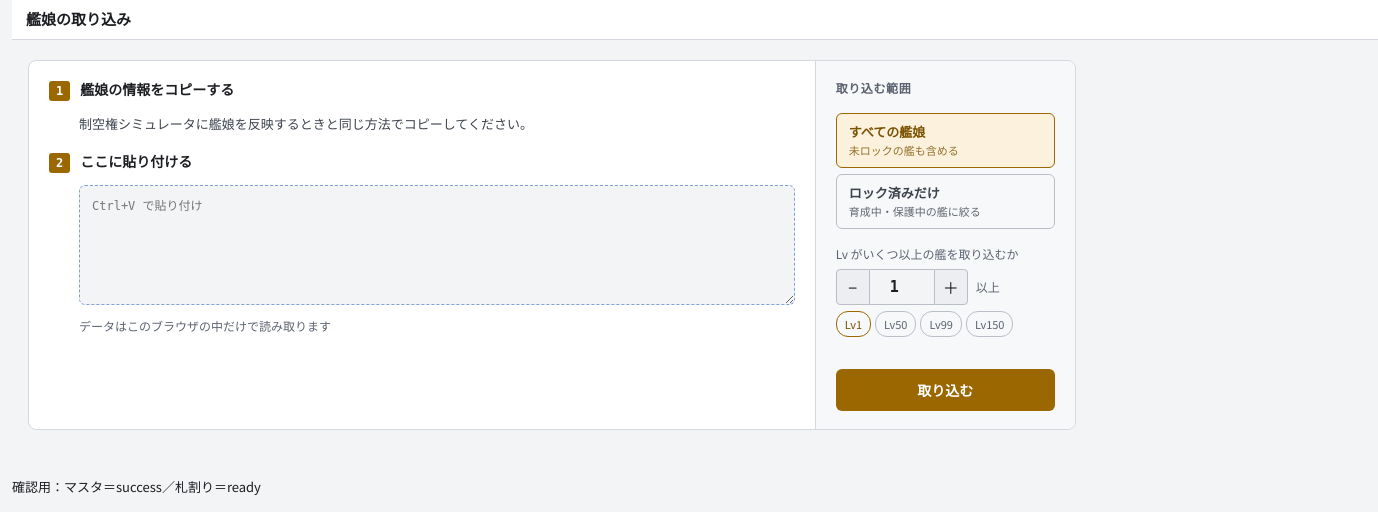
it: 取り込み画面（ImportScreen） › 表示（要件 3.4・モック） › 「ロック済みだけ」を押すと、そちらを選んだ状態に切り替わる
Step 1. Click the radio button labelled "ロック済みだけ 育成中・保護中の艦に絞る" → [945, 201], box x1=836 y1=174 x2=1055 y2=228
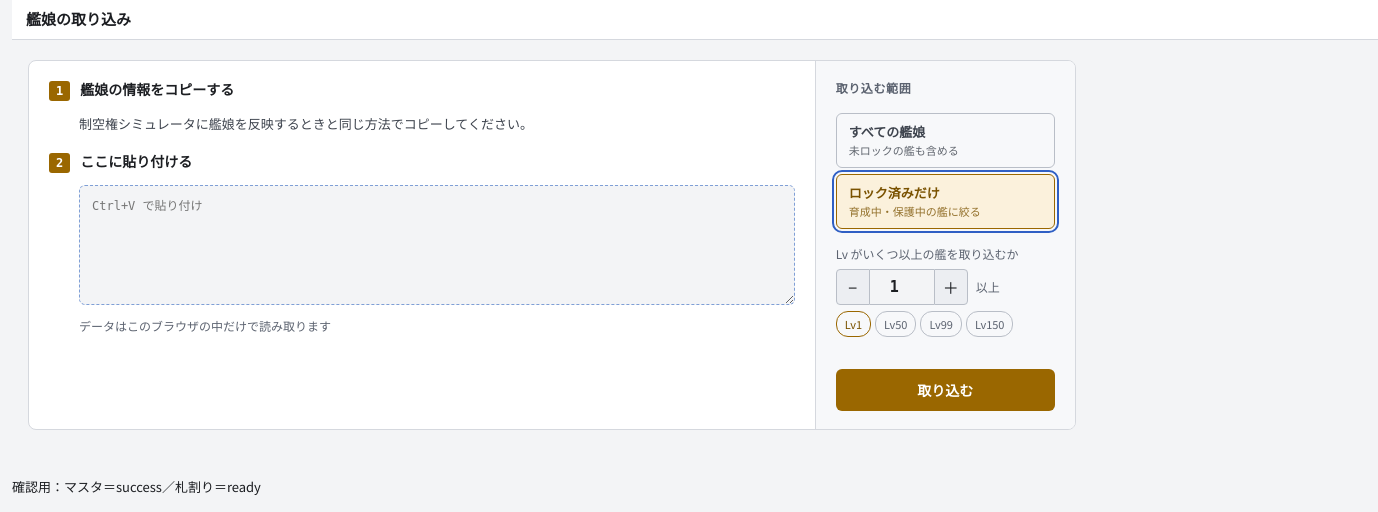
Expected: the radio button labelled "ロック済みだけ 育成中・保護中の艦に絞る" is checked, x1=836 y1=174 x2=1055 y2=228
Expected: the radio button labelled "すべての艦娘 未ロックの艦も含める" is not checked, x1=836 y1=112 x2=1055 y2=168
